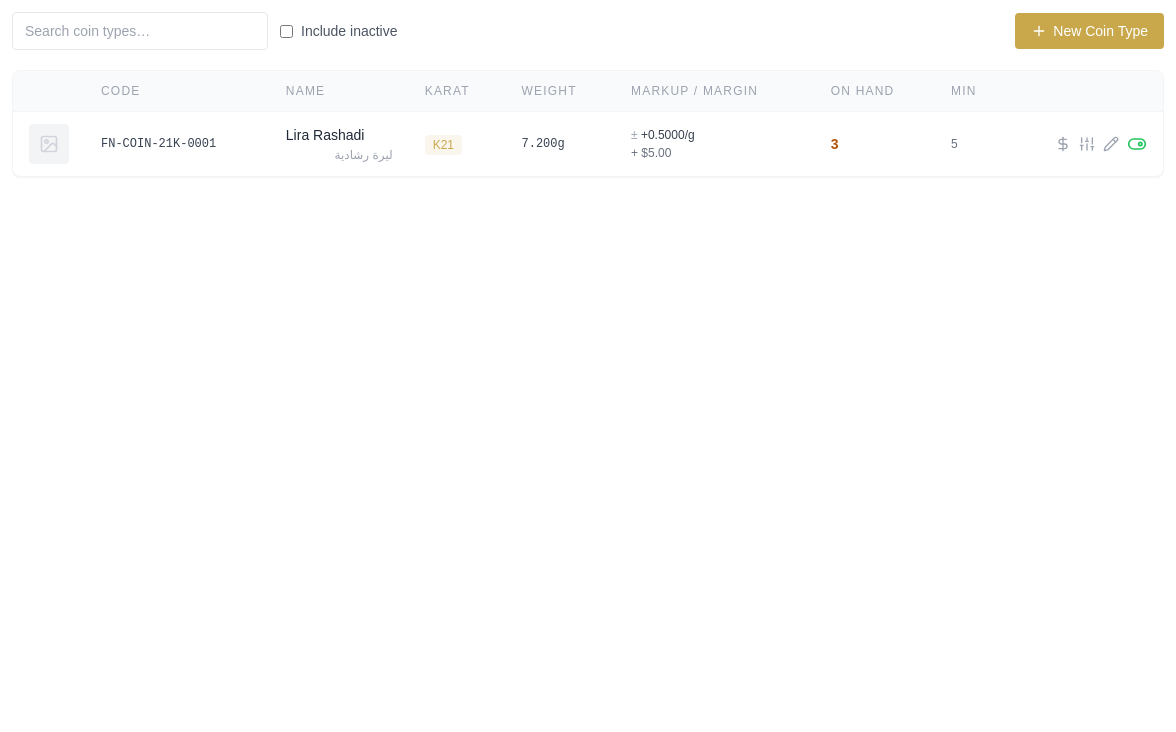
Test case: UnitCatalog labels (NEX-64) › every field in the new-type form is reachable by its label
Click the button "New Coin Type" at {"x": 1090, "y": 31}, box x1=1015 y1=13 x2=1164 y2=49
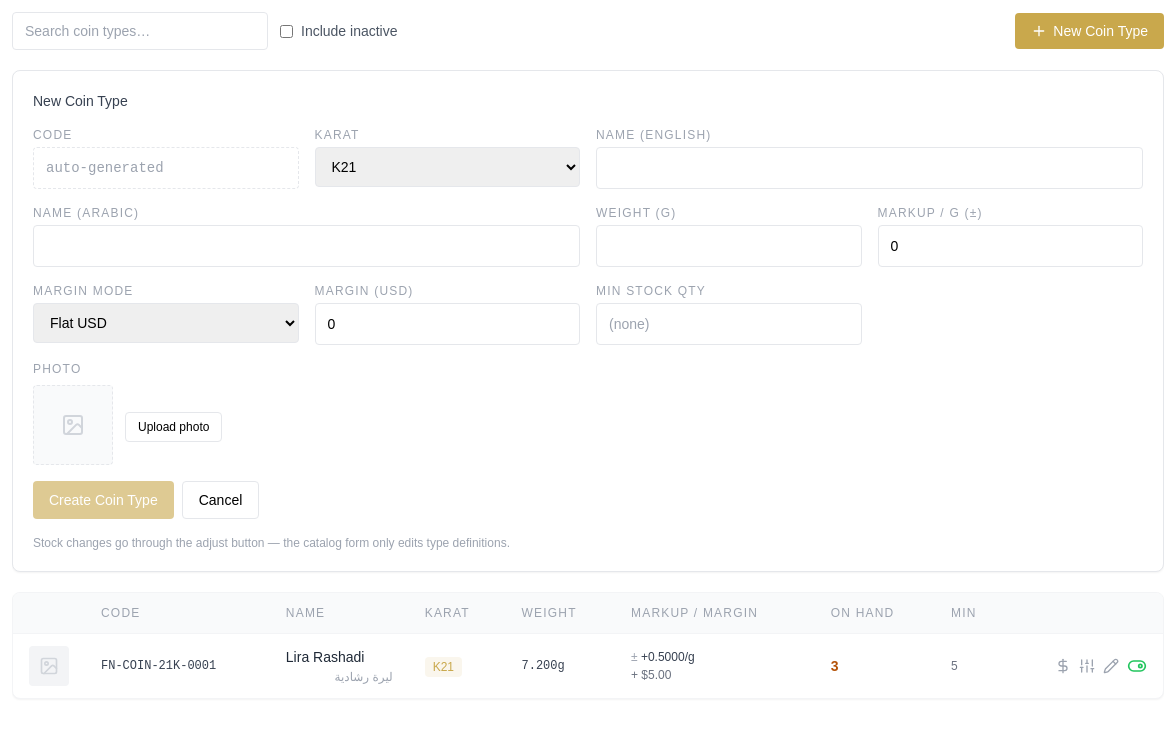
expect the label "Karat" is shown: met, box x1=314 y1=127 x2=580 y2=189
expect the label "Name (English)" is shown: met, box x1=596 y1=127 x2=1143 y2=189
expect the label "Name (Arabic)" is shown: met, box x1=33 y1=205 x2=580 y2=267
